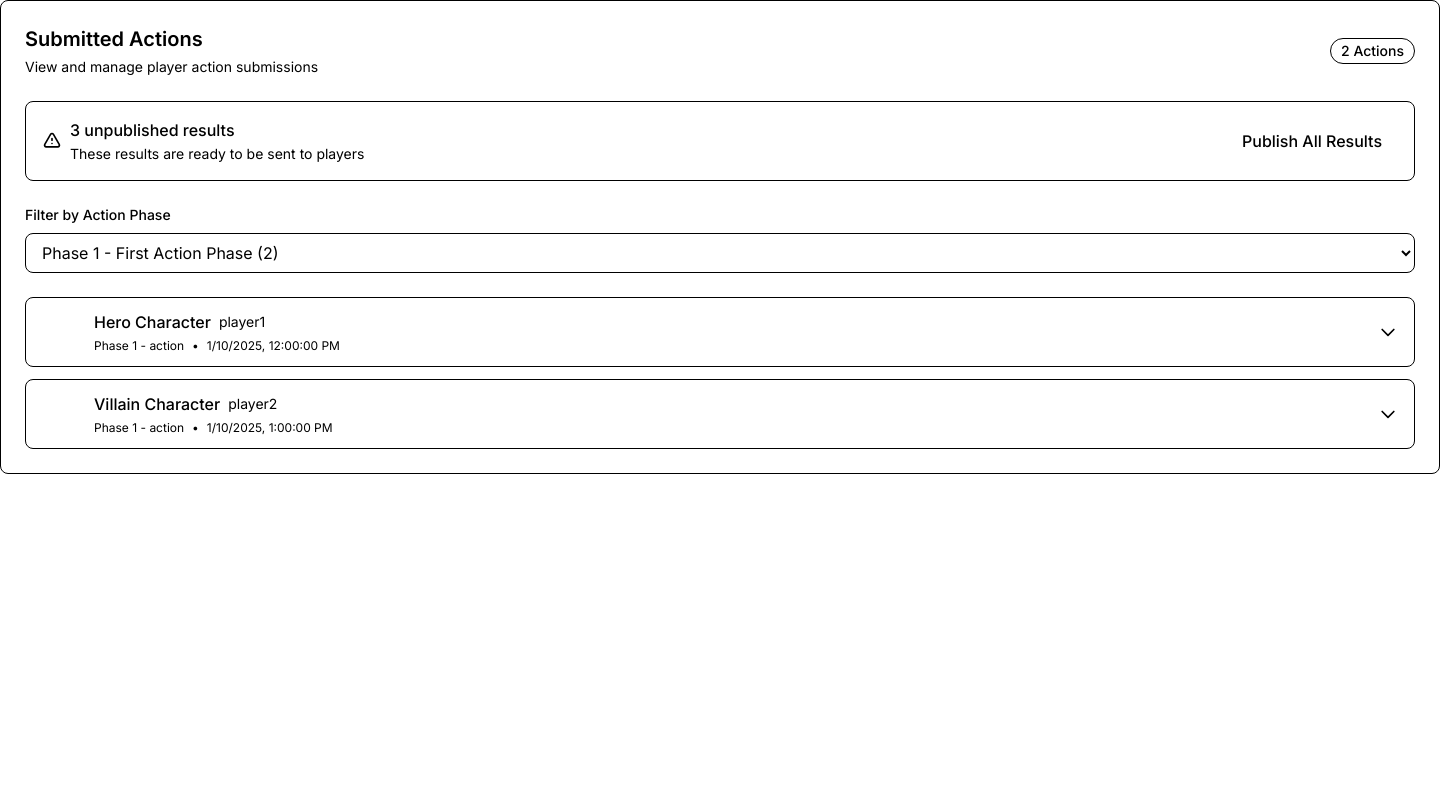
Scenario: ActionsList › Publish Results › opens confirmation dialog when publish button clicked
Click the button "Publish All Results". click: coordinates (1312, 141)
box: [1226, 121, 1398, 161]
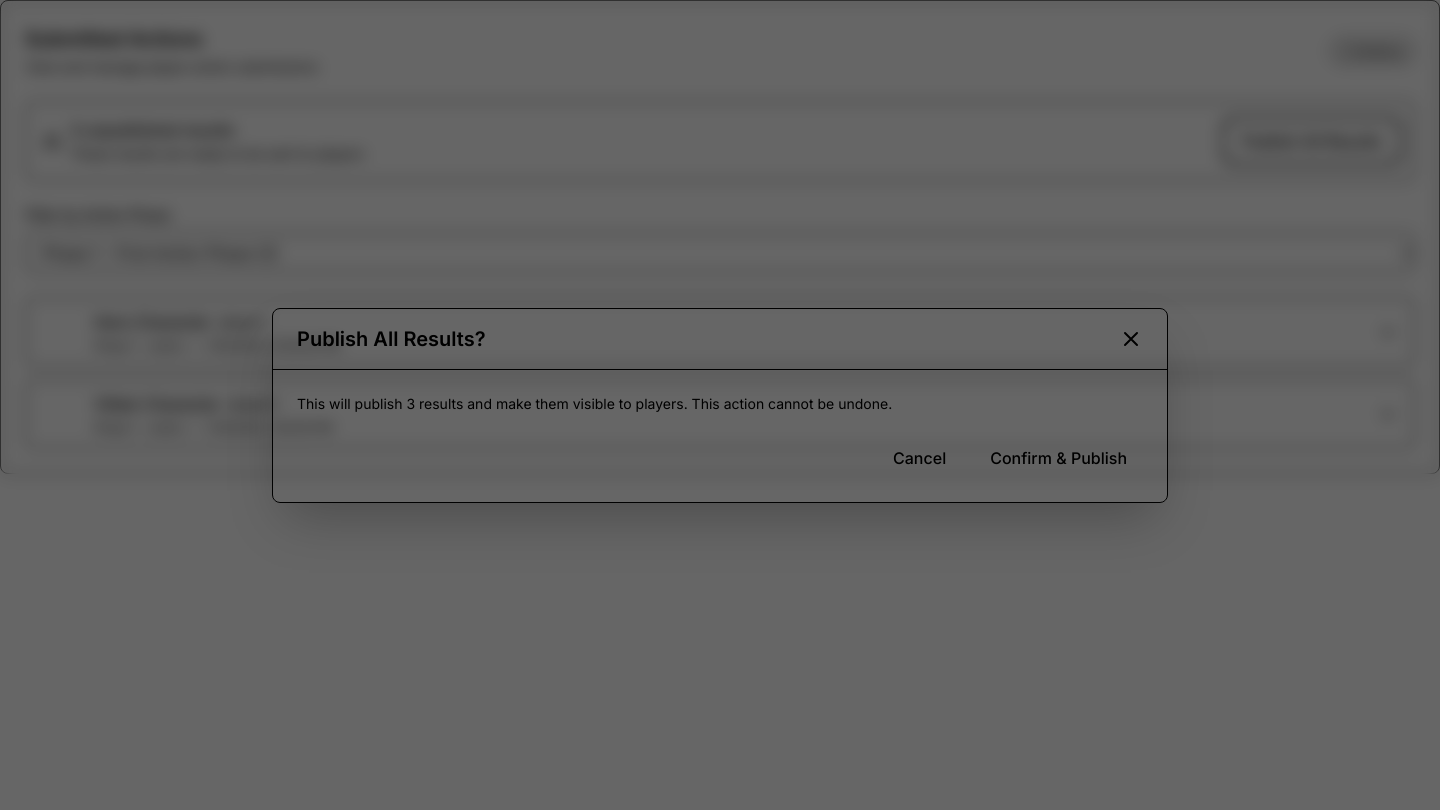
Expected: the heading "Publish All Results?" is shown, [297, 324, 486, 352]
